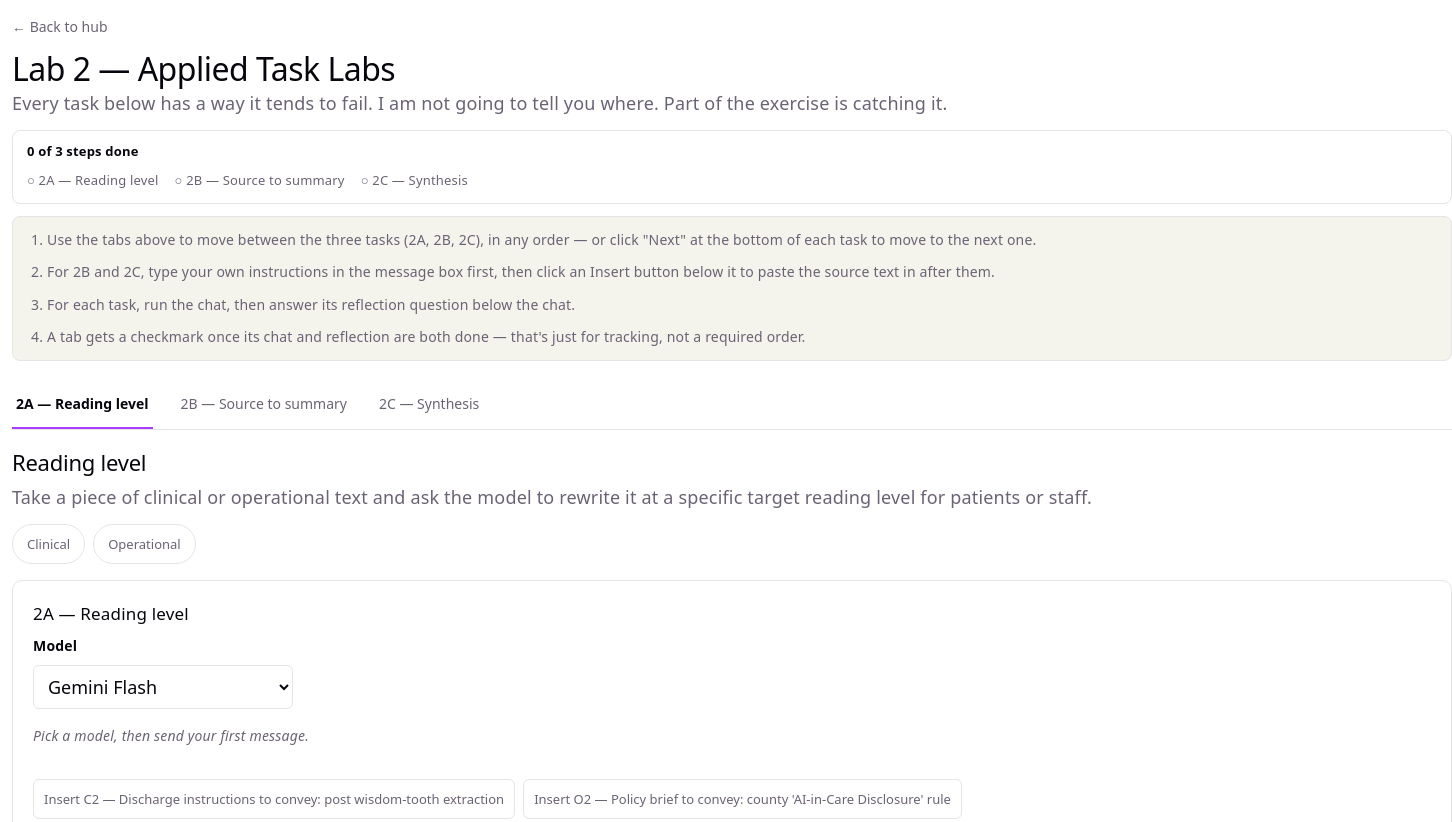
Test case: Lab2 — case buttons filter by lane › shows only the clinical case for 2A when clinical is selected, and only operational when switched
The image size is (1452, 822).
Click the button "clinical": x=49, y=544 top-left (12, 524), bottom-right (85, 564)
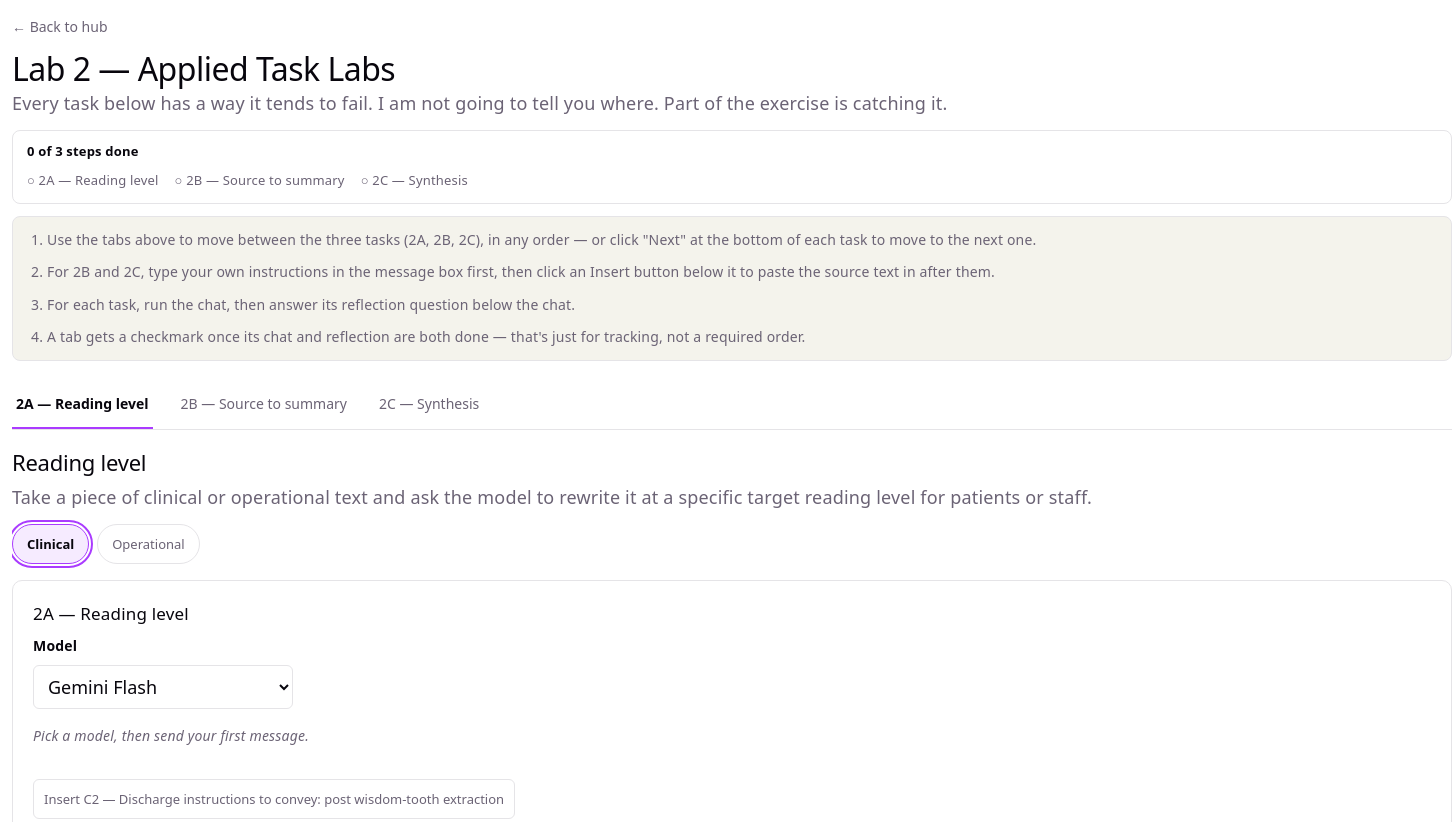
Expected: the button "Insert C2" is shown, top-left (33, 779), bottom-right (515, 819)
Now the button "Insert O2" is gone
Click the button "operational": x=148, y=544 top-left (97, 524), bottom-right (200, 564)
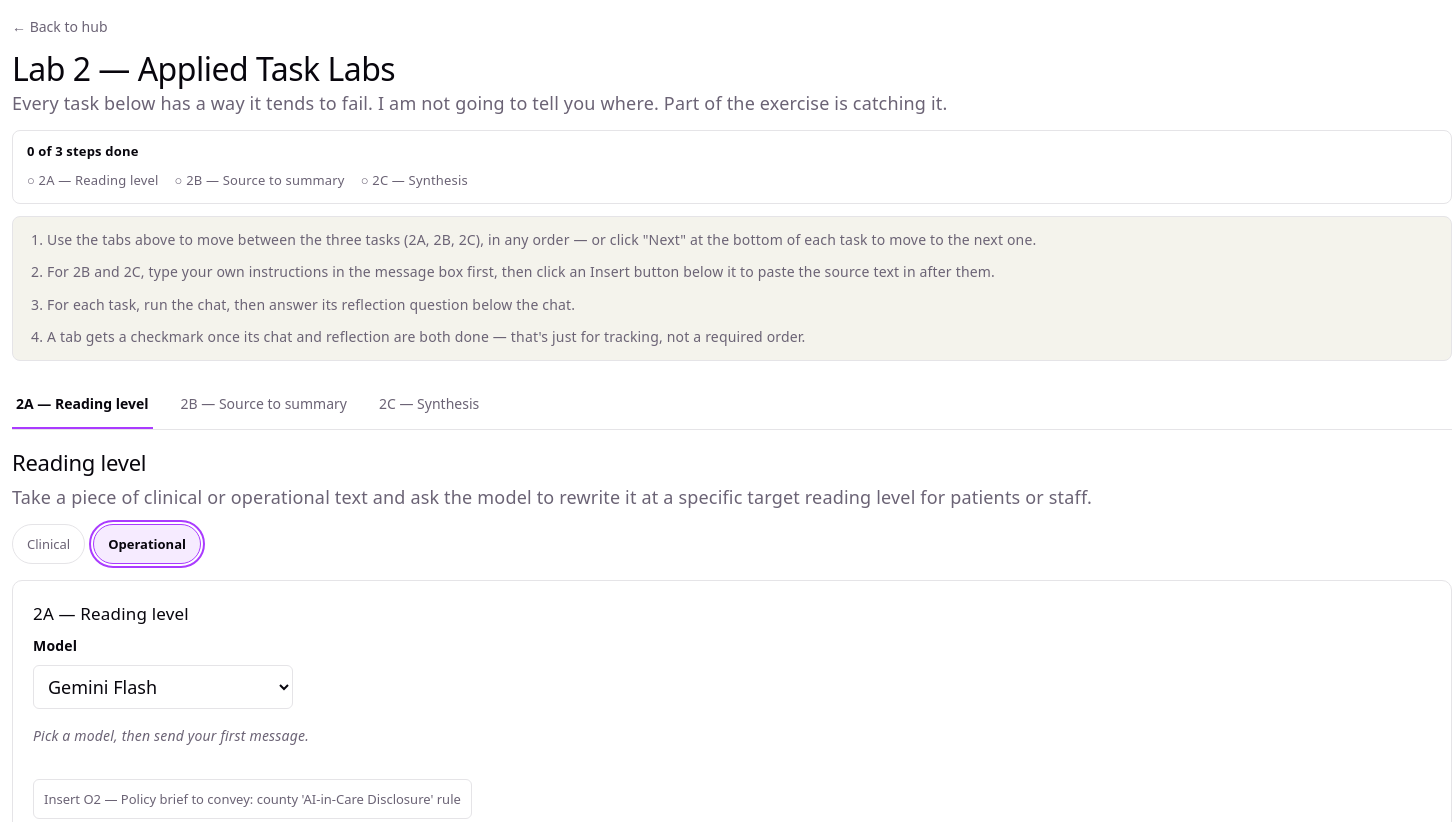
Now the button "Insert O2" is shown, box top-left (33, 779), bottom-right (472, 819)
Now the button "Insert C2" is gone
